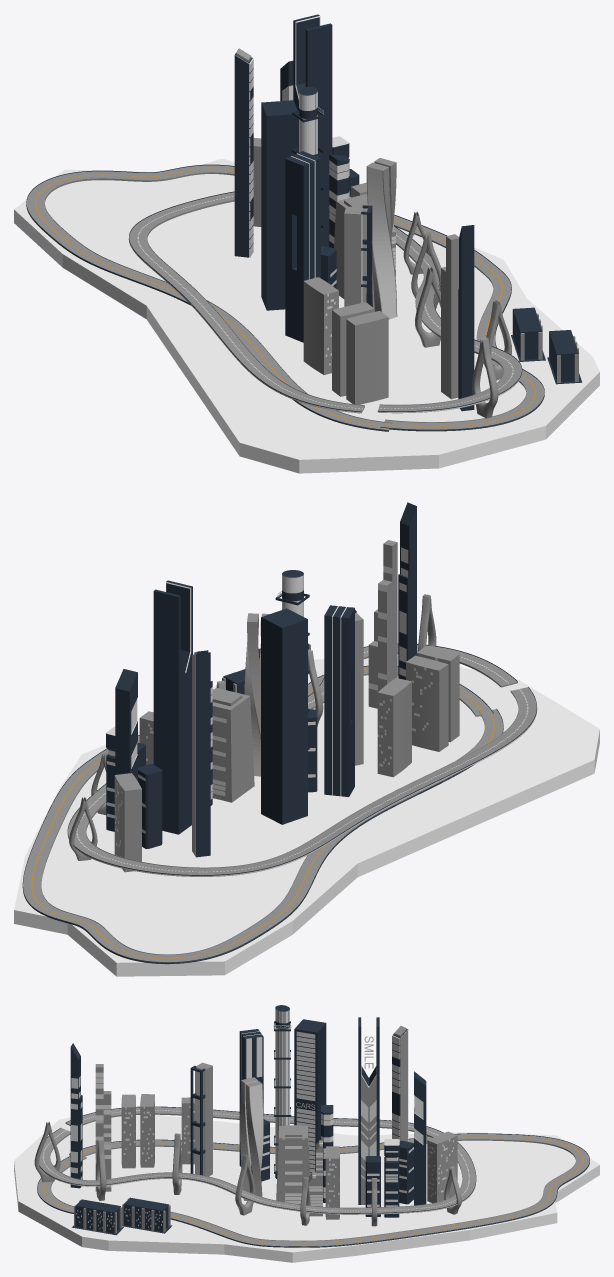
Rendered from StartScreen.fbx.
The picture shows the model from 3 angles, top to bottom: view 1: azimuth 30°, elevation 25°; view 2: azimuth 150°, elevation 25°; view 3: azimuth 270°, elevation 25°; orthographic projection. The views are drawn at different scales.
Visible parts, largest first — view 1: Ground, Road.001, Road, Cube.008, Cube.032, Cube, Cube.001, Cube.006, Cube.029, Cube.016, Cube.031, Cube.018 (+13 smaller); view 2: Ground, Road.001, Cube.008, Cube, Road, Cube.032, Cube.002, Cube.001, Cube.030, Cube.018, Cube.031, Cube.016 (+12 smaller); view 3: Ground, Road.001, Road, Cube.008, Cube, Cube.002, Cube.006, Cube.001, SkyscraperRound, Cube.026, Cube.003, Cube.016 (+22 smaller).
Part boxes in pixels (x1,y1,x2,y2): Ground: (14,158,599,473); Road.001: (26,164,544,431); Road: (128,191,522,413); Cube.008: (261,100,298,310); Cube.032: (285,151,320,342); Cube: (293,14,332,247); Cube.001: (234,48,253,257); Cube.006: (366,158,397,319); Cube.029: (346,311,388,404); Cube.016: (458,225,474,411); Cube.031: (303,277,338,374); Cube.018: (441,234,458,399); Ground: (14,655,599,976); Road.001: (22,665,503,964); Cube.008: (261,608,307,824); Cube: (153,580,192,834); Road: (67,643,537,876); Cube.032: (324,605,354,796); Cube.002: (212,688,254,802); Cube.001: (192,650,210,857); Cube.030: (406,655,448,751); Cube.018: (368,540,397,708); Cube.031: (377,678,411,777); Cube.016: (398,502,416,679); Ground: (14,1114,599,1262); Road.001: (37,1133,589,1247); Road: (39,1106,476,1214); Cube.008: (294,1019,326,1174); Cube: (358,1017,379,1204); Cube.002: (276,1125,309,1204); Cube.006: (240,1077,263,1200); Cube.001: (392,1026,408,1141); SkyscraperRound: (275,1005,289,1178); Cube.026: (427,1131,457,1203); Cube.003: (414,1071,426,1205); Cube.016: (70,1043,82,1188).
Size of the model in its own units: 23436 by 14441 by 40644.
